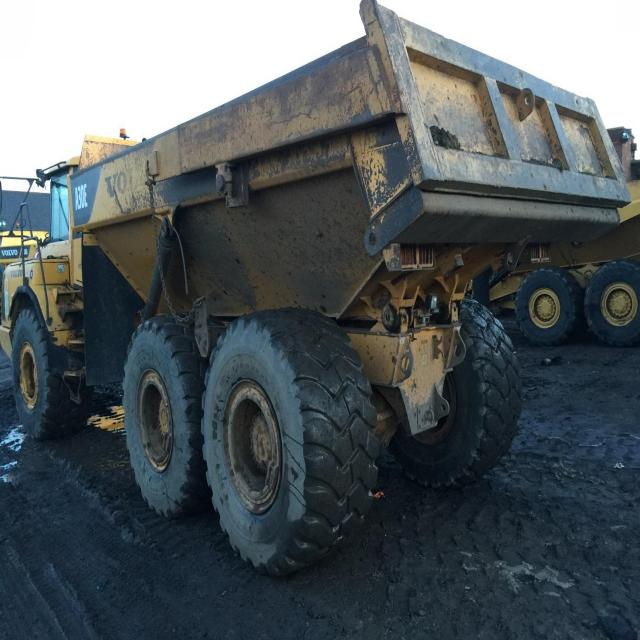dump_truck: (10, 7, 640, 573)
